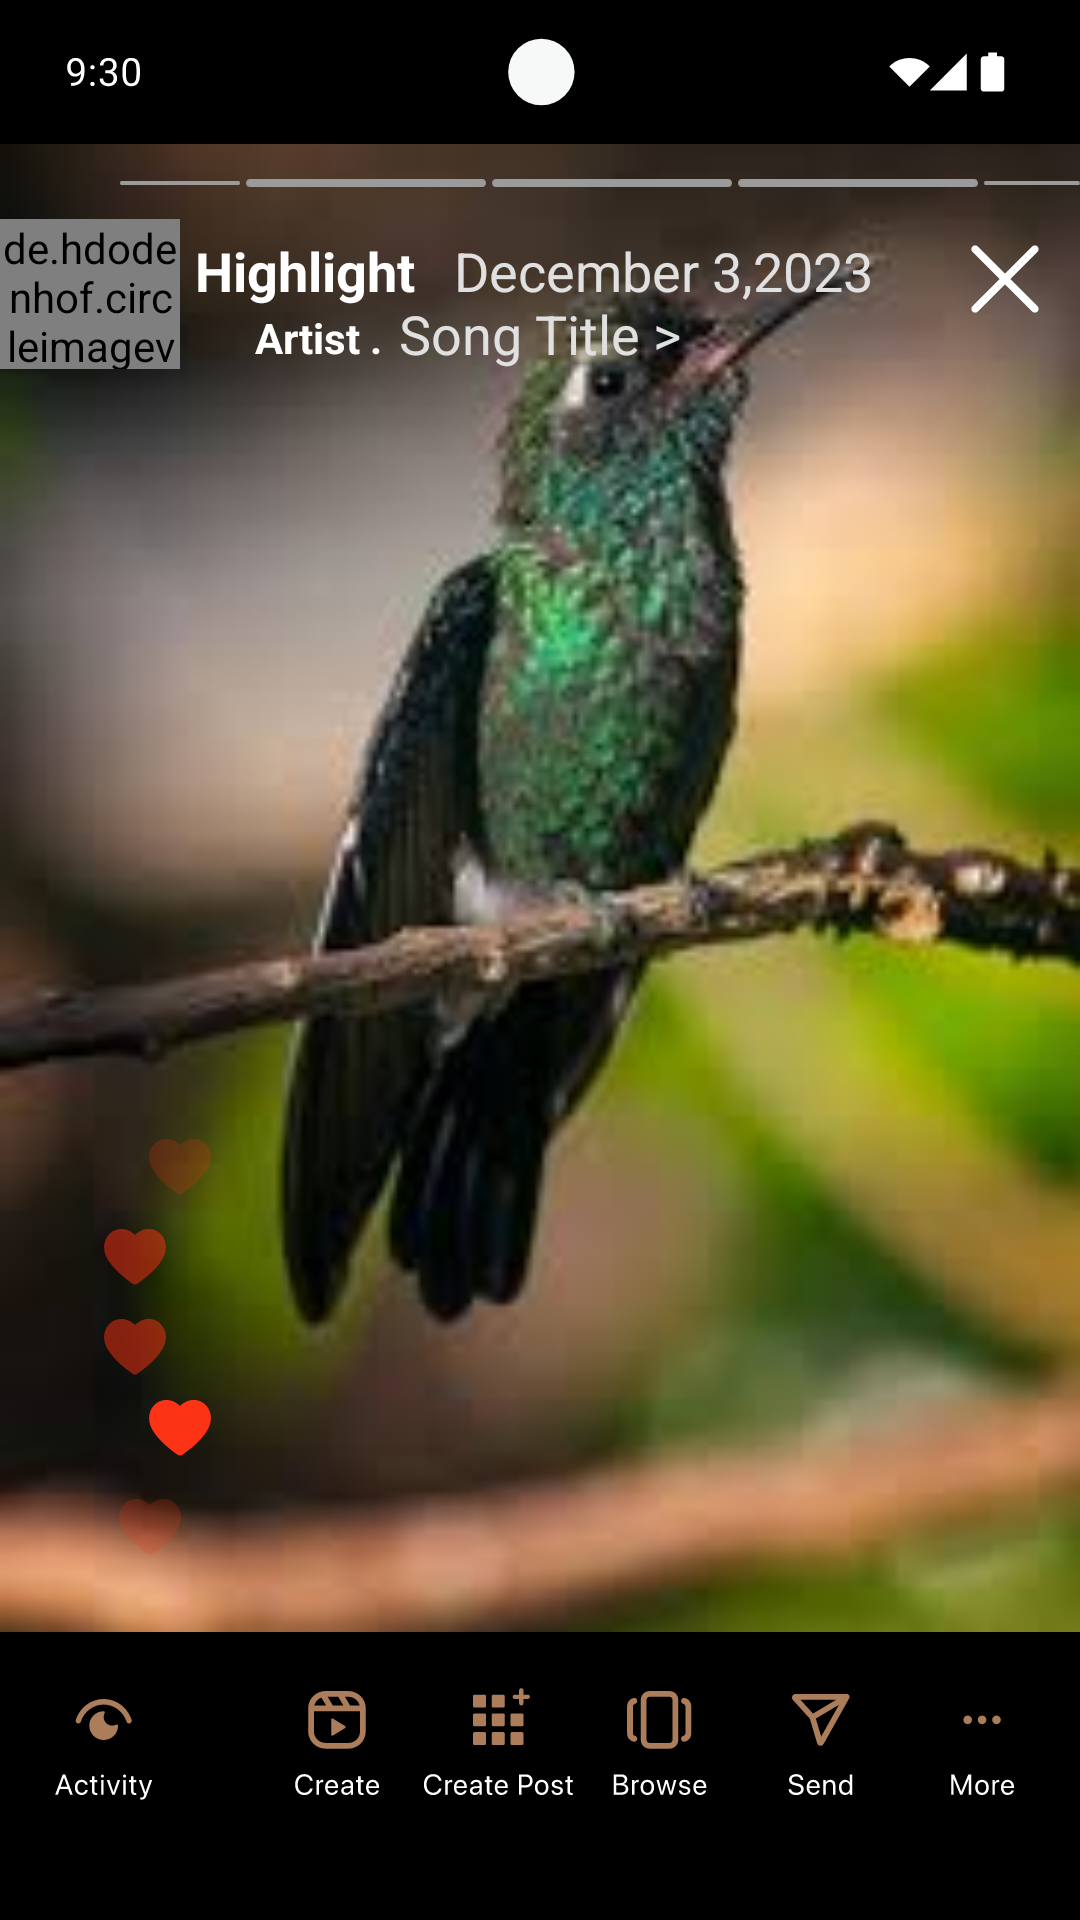

Where to tap for icons on this 1080*1920 app screen, as (x,y):
close: (1005,279)
likered: (180,1428)
